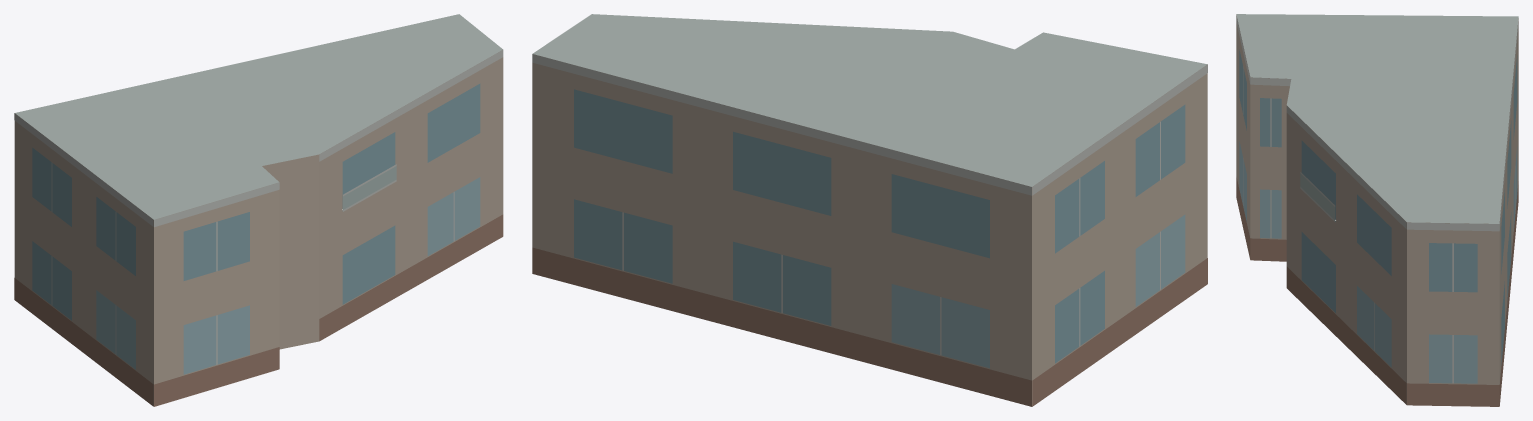
The model's file is survey-upis-32475711.glb.
The picture shows the model from 3 angles, left to right: view 1: azimuth 30°, elevation 25°; view 2: azimuth 150°, elevation 25°; view 3: azimuth 270°, elevation 25°; orthographic projection. The views are drawn at different scales.
Visible parts, largest first — view 1: survey-upis-32475711.tmp; view 2: survey-upis-32475711.tmp; view 3: survey-upis-32475711.tmp.
Boxes of the visible parts, x1,y1,x2,y2 form: survey-upis-32475711.tmp: (14,14,503,406); survey-upis-32475711.tmp: (532,14,1207,406); survey-upis-32475711.tmp: (1236,14,1518,406).
Size of the model in its own units: 15.03 by 6.1 by 8.54.
